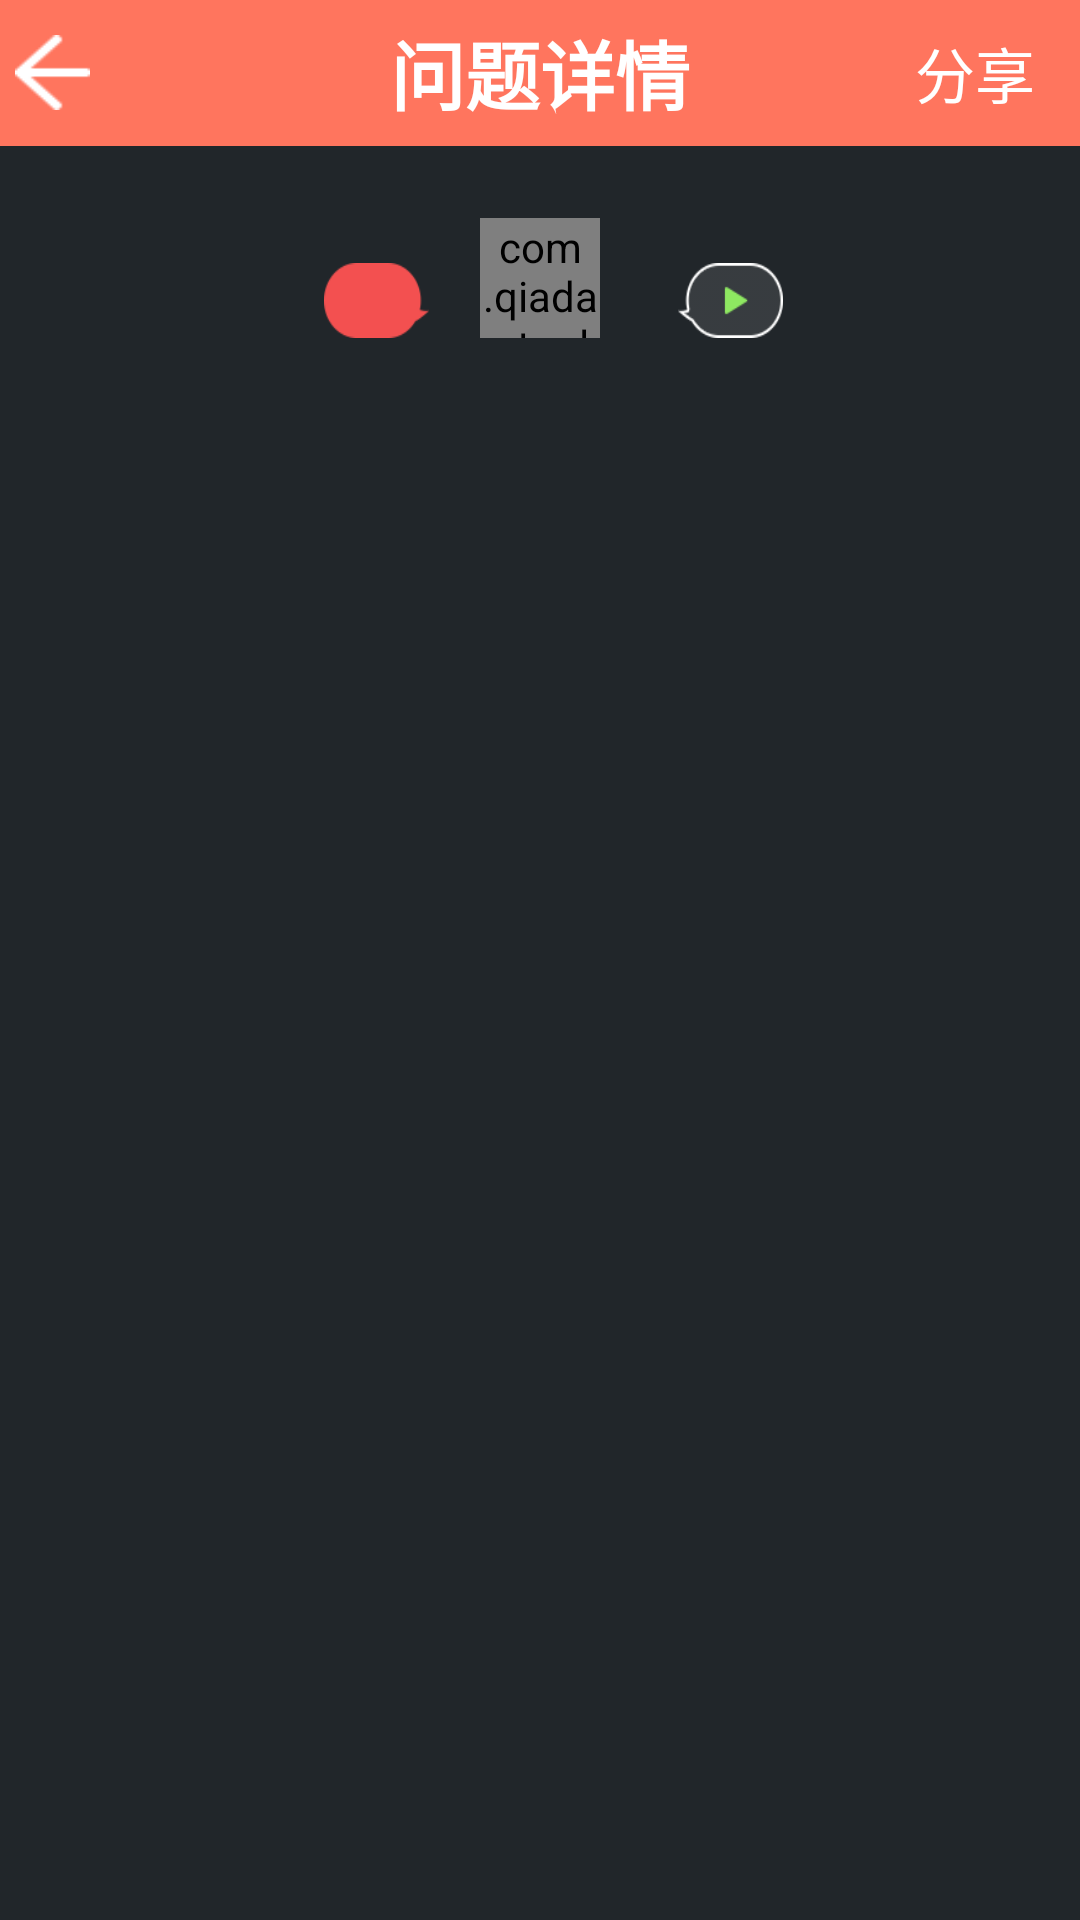

Named icons in this screenshot (1080*1920) and their centers, point (x, y):
back: point (52, 72)
yuyin down: point (730, 300)
